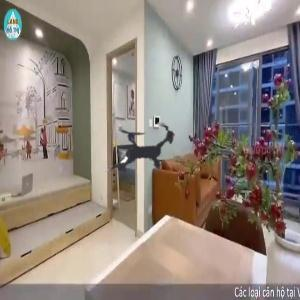drone: (84, 90, 201, 207)
